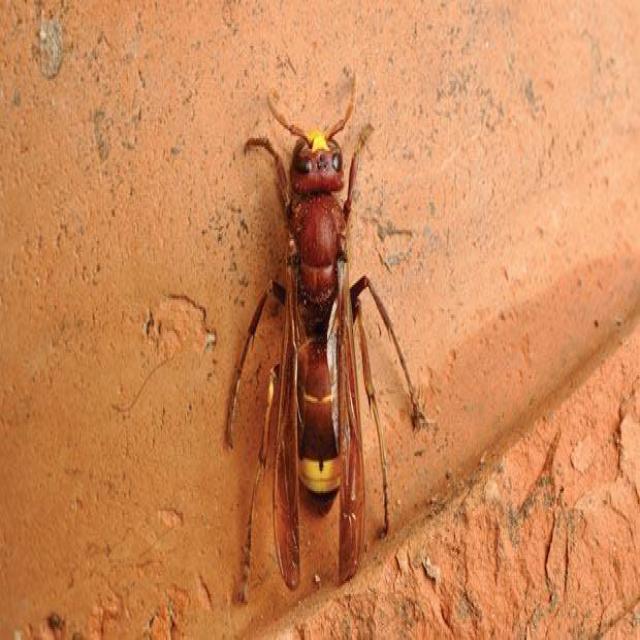Vespa Orientalis: (200, 56, 435, 621)
